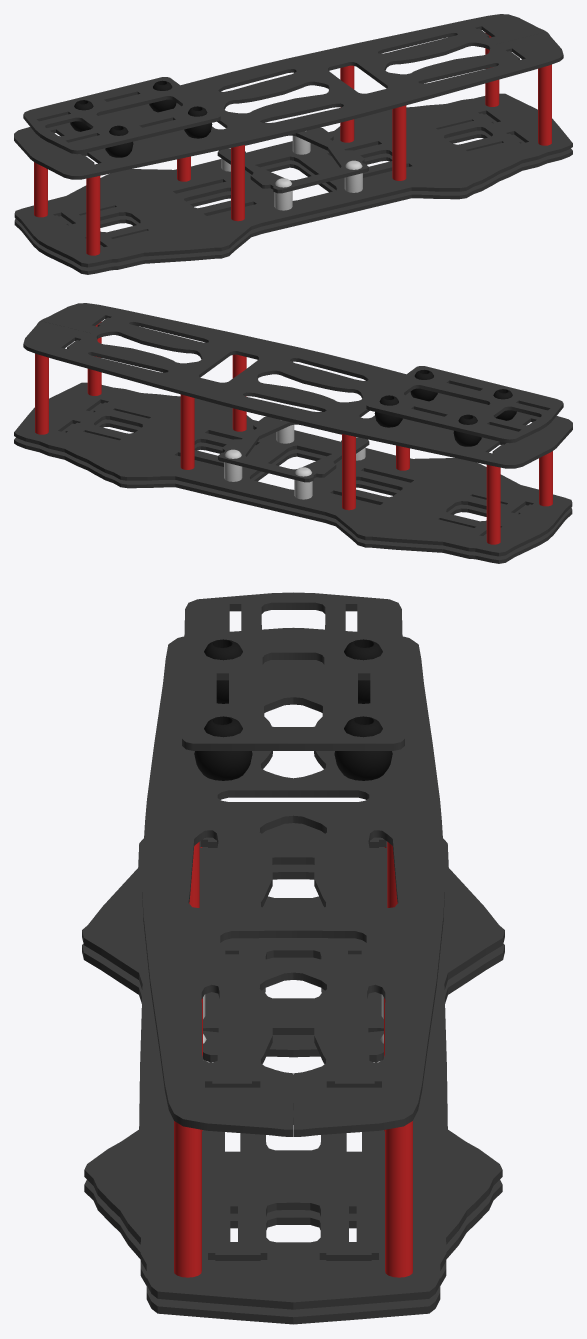
File: frame_zmr250.dae
3 renders of one model, top to bottom at view 1: azimuth 30°, elevation 25°; view 2: azimuth 150°, elevation 25°; view 3: azimuth 270°, elevation 25°, orthographic. The views are drawn at different scales.
Parts seen in each view (by area): view 1: Frame_unten2, Frame_oben.1, Kleinteil2.2, Frame_unten1, Zylinder (×4), Kleinteil1.1, Zylinder.1, Gummipuffer (×2), Zylinder.2; view 2: Frame_unten2, Frame_oben.1, Kleinteil2.2, Frame_unten1, Zylinder (×4), Kleinteil1.1, Zylinder.1, Gummipuffer (×2), Zylinder.2; view 3: Frame_oben.1, Frame_unten2, Kleinteil2.2, Frame_unten1, Zylinder.2, Gummipuffer (×2), Kleinteil1.1, Zylinder.
Part boxes in pixels (left/top/right/bottom): Frame_unten2: left=14, top=93, right=572, bottom=267; Frame_oben.1: left=14, top=14, right=563, bottom=179; Kleinteil2.2: left=23, top=77, right=220, bottom=154; Frame_unten1: left=14, top=114, right=572, bottom=274; Zylinder (×4): left=34, top=131, right=362, bottom=255; Kleinteil1.1: left=217, top=127, right=368, bottom=193; Zylinder.1: left=340, top=65, right=406, bottom=180; Gummipuffer (×2): left=70, top=80, right=212, bottom=157; Zylinder.2: left=485, top=32, right=551, bottom=145; Frame_unten2: left=14, top=382, right=572, bottom=556; Frame_oben.1: left=23, top=303, right=572, bottom=468; Kleinteil2.2: left=366, top=366, right=563, bottom=443; Frame_unten1: left=14, top=403, right=572, bottom=563; Zylinder (×4): left=224, top=420, right=552, bottom=544; Kleinteil1.1: left=218, top=416, right=369, bottom=482; Zylinder.1: left=180, top=354, right=246, bottom=469; Gummipuffer (×2): left=374, top=369, right=516, bottom=446; Zylinder.2: left=35, top=321, right=101, bottom=434; Frame_oben.1: left=142, top=627, right=444, bottom=1136; Frame_unten2: left=82, top=823, right=504, bottom=1309; Kleinteil2.2: left=182, top=592, right=404, bottom=750; Frame_unten1: left=82, top=847, right=504, bottom=1324; Zylinder.2: left=174, top=1121, right=412, bottom=1277; Gummipuffer (×2): left=194, top=639, right=392, bottom=780; Kleinteil1.1: left=203, top=954, right=383, bottom=1062; Zylinder: left=189, top=842, right=397, bottom=907.
Bounding box in the file's own units: 594 × 133 × 210.
